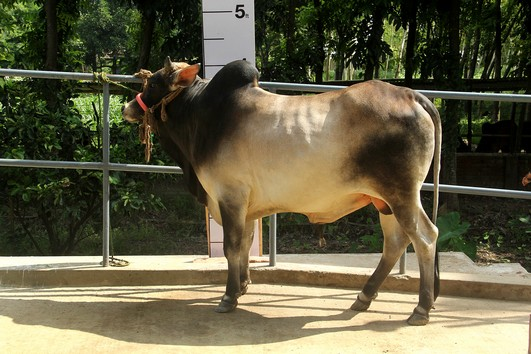cow: (115, 55, 445, 329)
